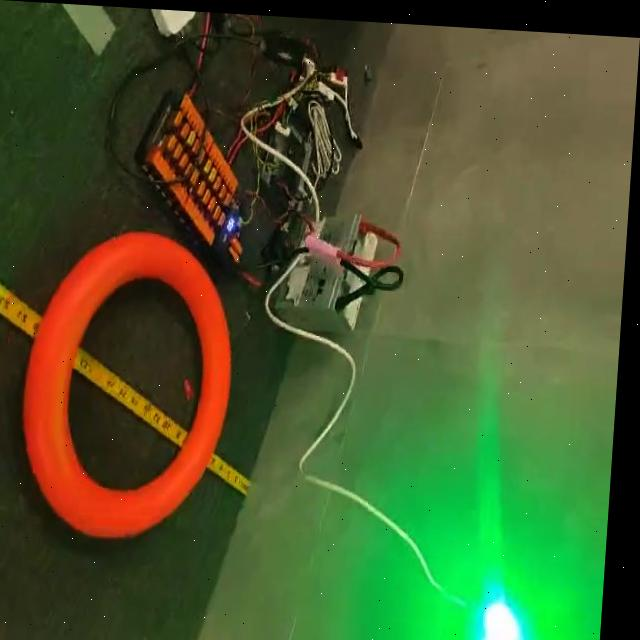note: (19, 220, 242, 548)
